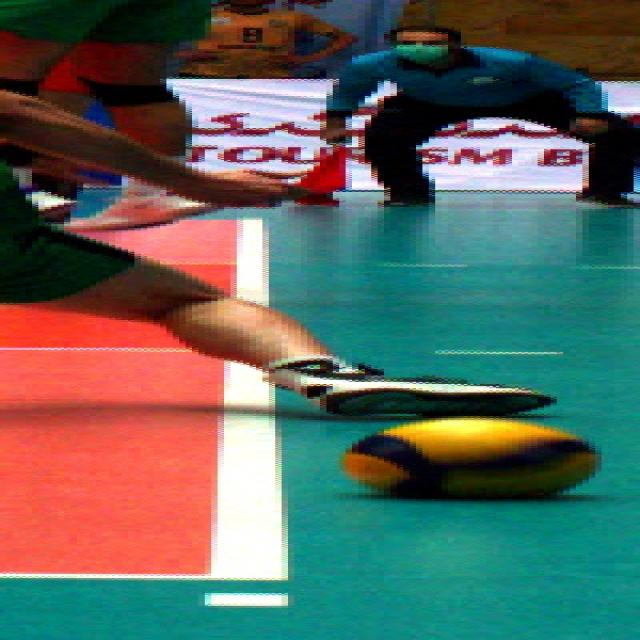Volleyball: (343, 416, 600, 496)
